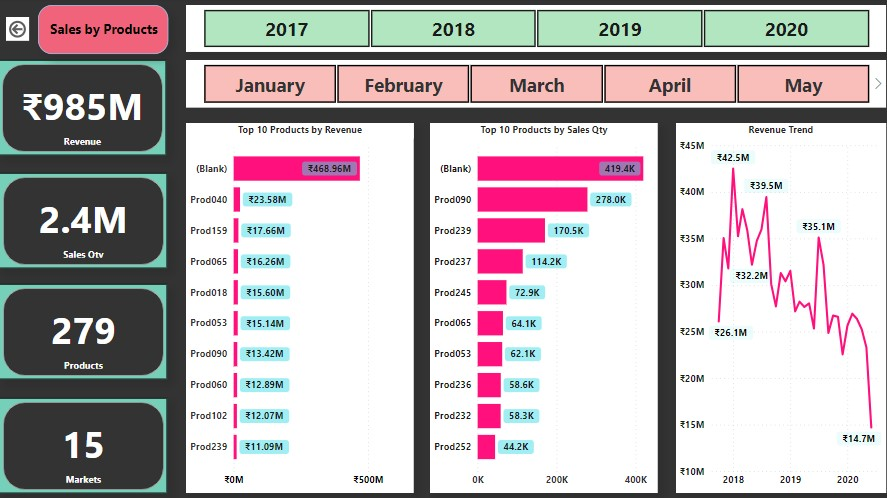

This screenshot's page, from the dashboard's own definition file:
{"tool":"powerbi","page":{"name":"Sales By Products","canvas":[1280,720],"ordinal":2},"visuals":[{"type":"cardVisual","fields":{"Data":["BaseMeasures.Revenue"]},"box":[0,88.5,239.7,135.6],"z":0},{"type":"barChart","title":"Top 10 Products by Revenue","fields":{"Y":["BaseMeasures.Revenue"],"Category":["sales products.product_code"]},"box":[268.3,178.4,325.4,528],"z":1000},{"type":"barChart","title":"Top 10 Products by Sales Qty","fields":{"Y":["BaseMeasures.Sales Qty"],"Category":["sales products.product_code"]},"box":[616.5,178.4,325.4,528],"z":2000},{"type":"slicer","fields":{"Values":["sales date.year"]},"box":[268.3,10,998.9,67.1],"z":3000},{"type":"slicer","fields":{"Values":["sales date.month_name"]},"box":[268.3,88.5,998.9,68.5],"z":4000},{"type":"lineChart","title":"Revenue Trend","fields":{"Category":["sales date.cy_date.Variation.Date Hierarchy.Year","sales date.cy_date.Variation.Date Hierarchy.Quarter","sales date.cy_date.Variation.Date Hierarchy.Month","sales date.cy_date.Variation.Date Hierarchy.Day"],"Y":["BaseMeasures.Revenue"]},"box":[967.5,178.4,299.7,528],"z":5000},{"type":"cardVisual","fields":{"Data":["BaseMeasures.Sales Qty"]},"box":[1.4,249.7,239.7,135.6],"z":6000},{"type":"cardVisual","fields":{"Data":["BaseMeasures.Products"]},"box":[1.4,408.1,239.7,135.6],"z":7000},{"type":"cardVisual","fields":{"Data":["BaseMeasures.Markets"]},"box":[1.4,570.8,239.7,135.6],"z":8000},{"type":"textbox","box":[57.1,10,186,70],"z":9000},{"type":"actionButton","box":[11.4,27.1,32.8,34.2],"z":10000}]}

Visuals, with their boxes in screenshot pixels (x1, y1, x2, y2), scaled from the page's 1280x720 canvas onto the 887x498 screenshot:
cardVisual - BaseMeasures.Revenue: BBox(0, 61, 166, 155)
"Top 10 Products by Revenue" barChart: BBox(186, 123, 411, 489)
"Top 10 Products by Sales Qty" barChart: BBox(427, 123, 653, 489)
slicer - sales date.year: BBox(186, 7, 878, 53)
slicer - sales date.month_name: BBox(186, 61, 878, 109)
"Revenue Trend" lineChart: BBox(670, 123, 878, 489)
cardVisual - BaseMeasures.Sales Qty: BBox(1, 173, 167, 266)
cardVisual - BaseMeasures.Products: BBox(1, 282, 167, 376)
cardVisual - BaseMeasures.Markets: BBox(1, 395, 167, 489)
textbox: BBox(40, 7, 168, 55)
actionButton: BBox(8, 19, 31, 42)
